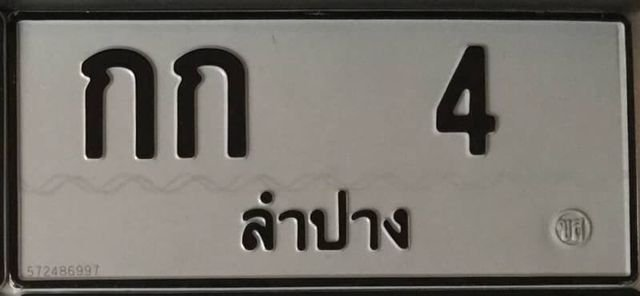txt01: (73, 44, 159, 163), (169, 44, 252, 161)
